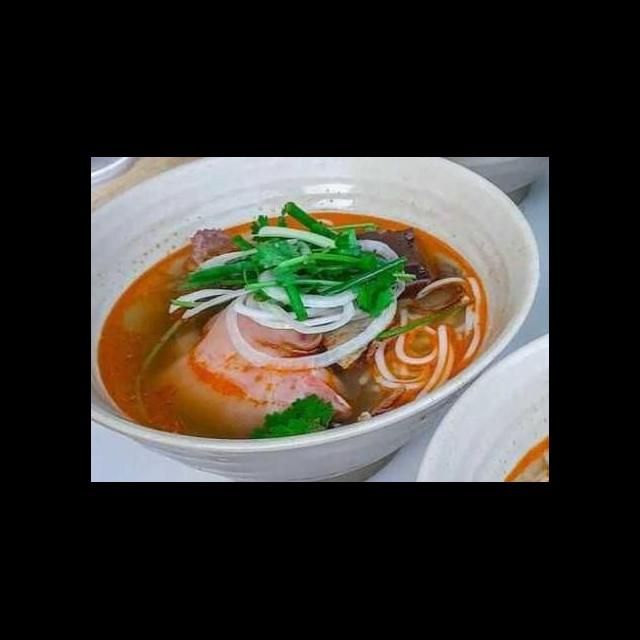bun: (354, 270, 487, 410)
